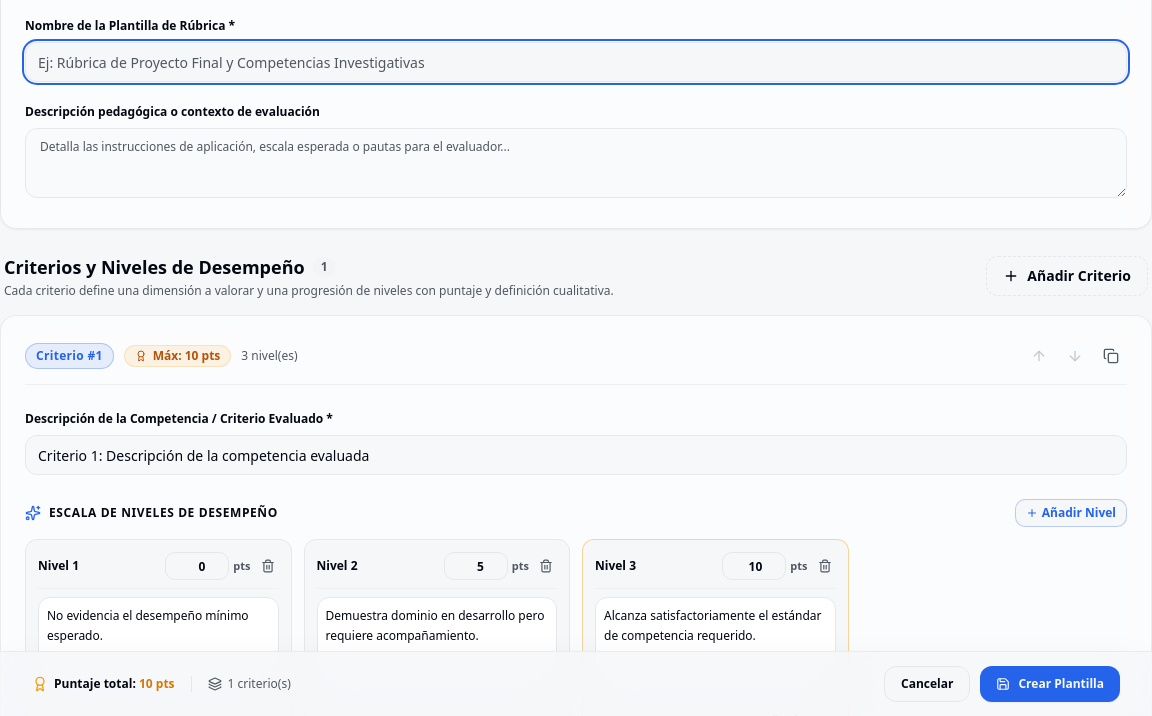
Test: RubricEditorView Component › allows duplicating a criterion
(page scrolled)
Click the button named "Duplicar este criterio": {"x": 1111, "y": 356} [1095, 340, 1127, 372]
(page scrolled)
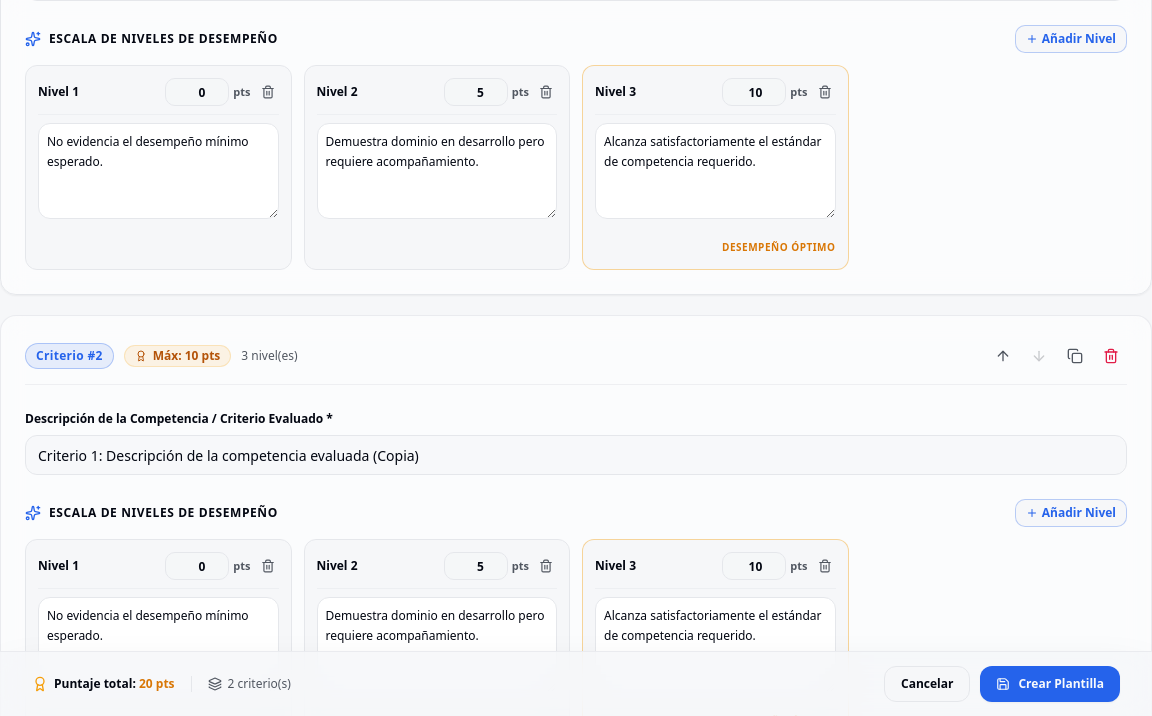
Check: the text "Criterio #2" is shown, box [25, 343, 114, 369]
